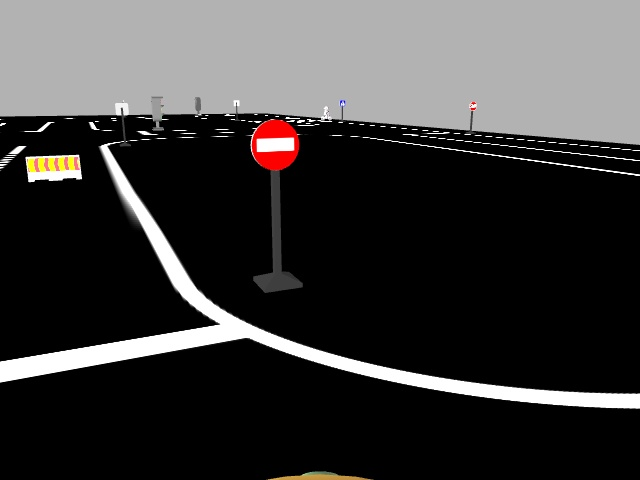ClosedRoadStand: (25, 158, 79, 178)
NoEntry: (253, 121, 298, 167)
